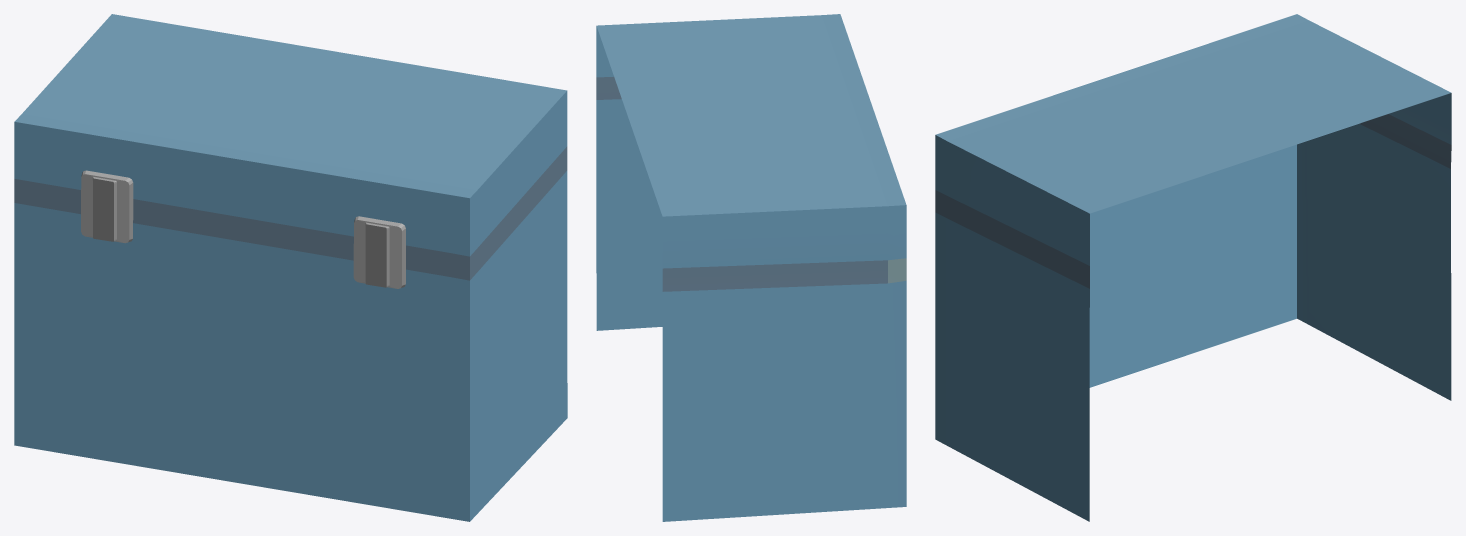
The model's file is MSH_QuestObject_box_01.fbx.
3 renders of one model, left to right at view 1: azimuth 30°, elevation 25°; view 2: azimuth 150°, elevation 25°; view 3: azimuth 270°, elevation 25°, orthographic. The views are drawn at different scales.
Parts seen in each view (by area): view 1: MSH_QuestObject_box_01; view 2: MSH_QuestObject_box_01; view 3: MSH_QuestObject_box_01.
Part boxes in pixels (bbox=[...]): MSH_QuestObject_box_01: bbox=[14, 14, 567, 521]; MSH_QuestObject_box_01: bbox=[596, 14, 906, 521]; MSH_QuestObject_box_01: bbox=[935, 14, 1451, 521].
Size of the model in its own units: 1.25 by 0.8868 by 1.35.
